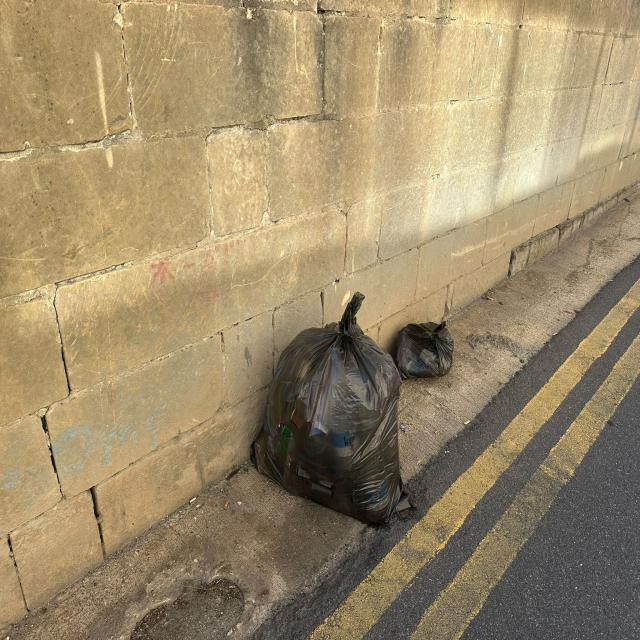black_bag: (248, 290, 414, 527), (396, 318, 454, 376)
